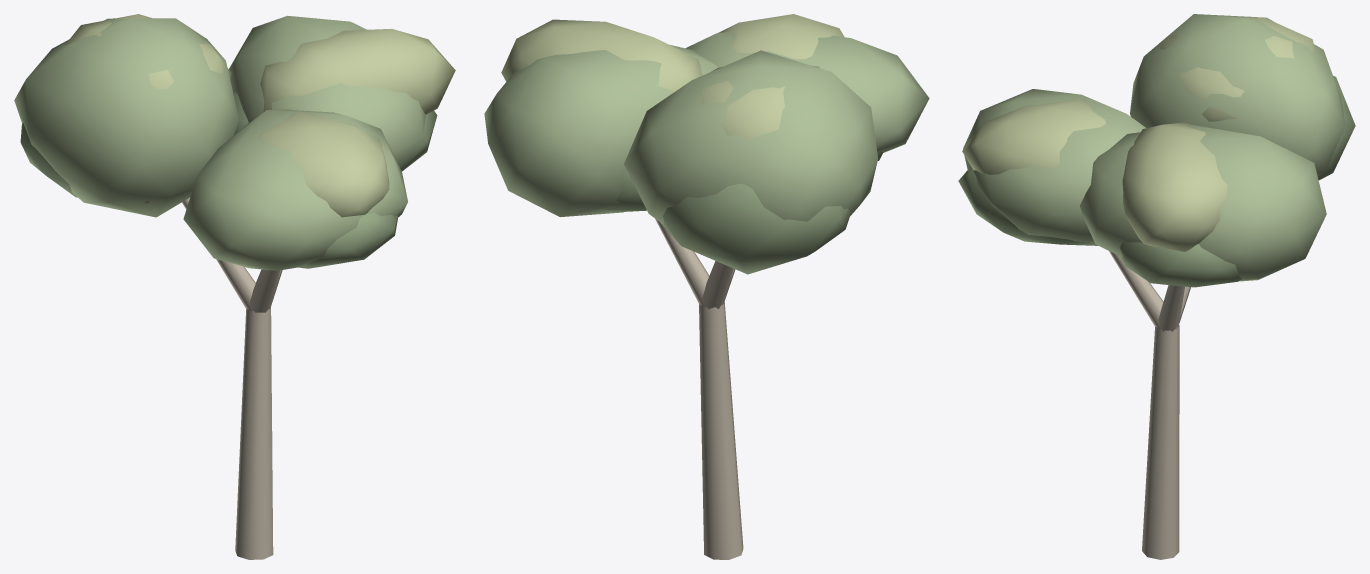
File: tree_eucalyptus_6.glb
3 views of the same model, side by side, from view 1: azimuth 30°, elevation 25°; view 2: azimuth 150°, elevation 25°; view 3: azimuth 270°, elevation 25° (orthographic). The views are drawn at different scales.
Visible parts, largest first — view 1: tree_eucalyptus_6.glb; view 2: tree_eucalyptus_6.glb; view 3: tree_eucalyptus_6.glb.
Part boxes in pixels (x1,y1,x2,y2): tree_eucalyptus_6.glb: (14, 14, 455, 559); tree_eucalyptus_6.glb: (484, 14, 929, 559); tree_eucalyptus_6.glb: (958, 14, 1355, 559).
Size of the model in its own units: 5.12 by 6.72 by 4.88.
